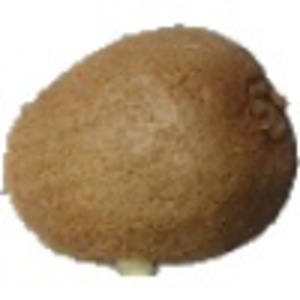kiwi: (1, 24, 300, 281)
